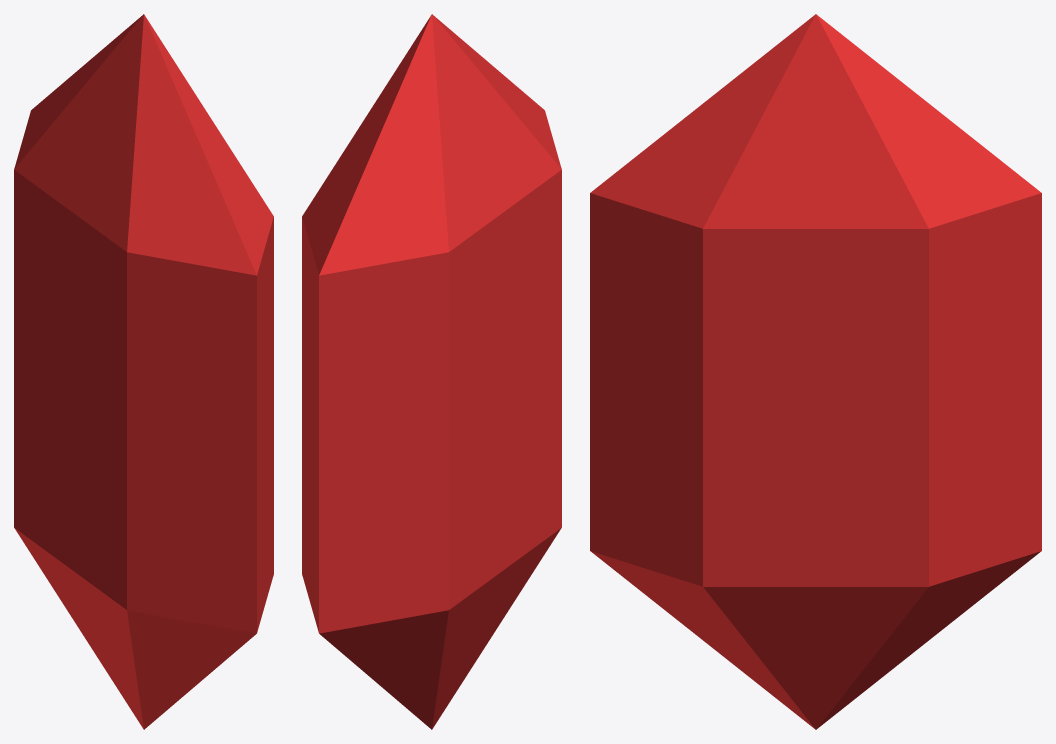
The model's file is Rubi.fbx.
3 views of the same model, side by side, from view 1: azimuth 30°, elevation 25°; view 2: azimuth 150°, elevation 25°; view 3: azimuth 270°, elevation 25° (orthographic).
Visible parts, largest first — view 1: Rubi; view 2: Rubi; view 3: Rubi.
Boxes of the visible parts, x1,y1,x2,y2 form: Rubi: (14, 14, 273, 729); Rubi: (302, 14, 561, 729); Rubi: (590, 14, 1041, 729).
Bounding box in the file's own units: 1.08 × 5.04 × 2.88.
